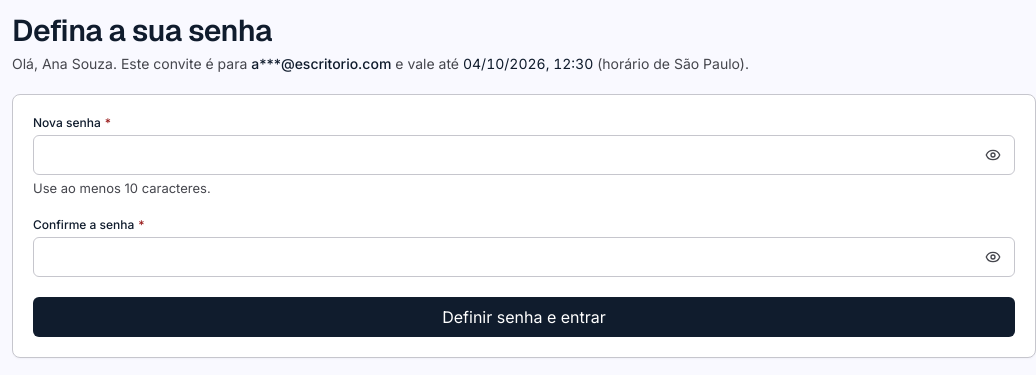
definição da senha › senha recusada pela política do servidor volta ao campo e mantém o convite utilizável
The image size is (1036, 375).
Type "senha-bem-longa-123" into the password field labelled "Nova senha*" at (524, 155), box left=33, top=135, right=1015, bottom=175
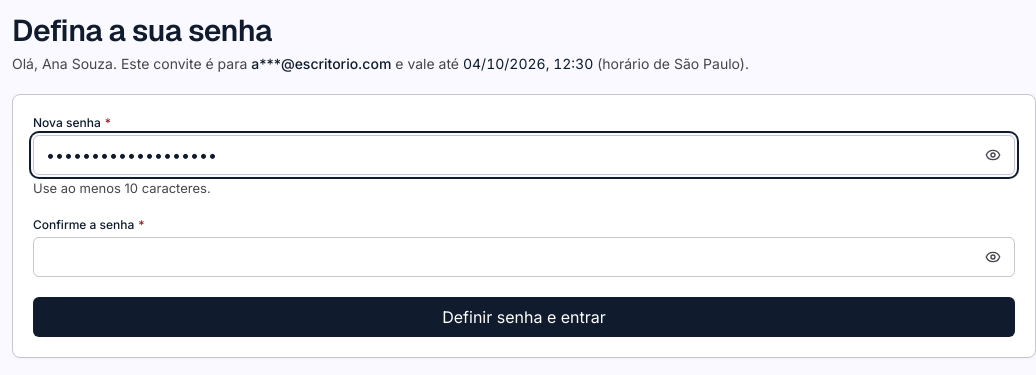
Type "senha-bem-longa-123" into the password field labelled "Confirme a senha*" at (524, 257), box left=33, top=237, right=1015, bottom=277
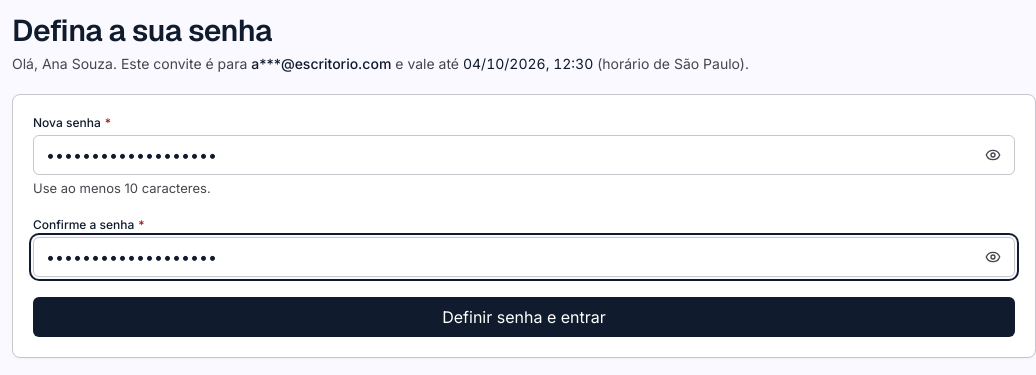
Click the button "Definir senha e entrar" at (524, 317), box left=33, top=297, right=1015, bottom=337
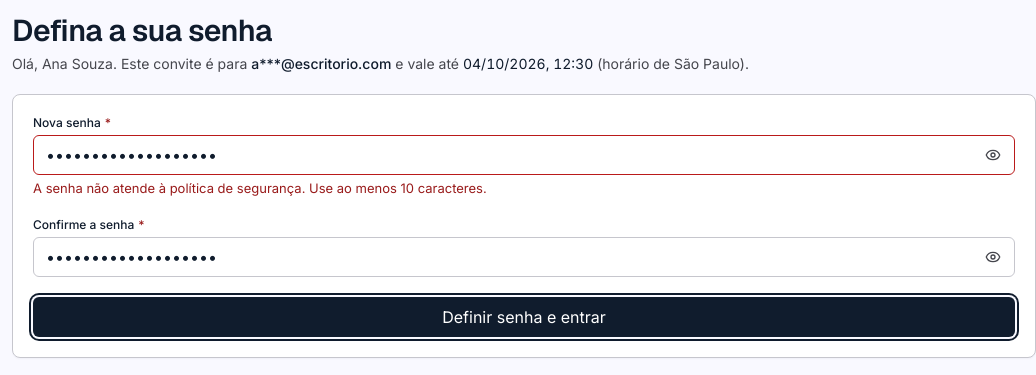
Result: the text "não atende à política de segurança" is shown at left=33, top=180, right=487, bottom=196
